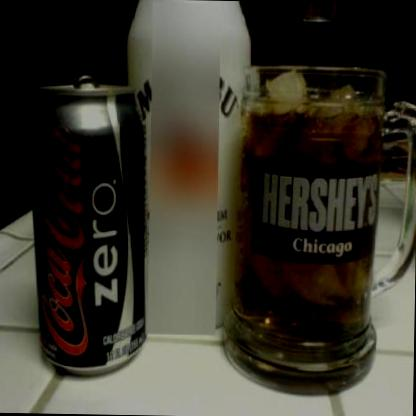alumunium_can: (24, 71, 151, 384)
objects: (224, 61, 416, 396)
